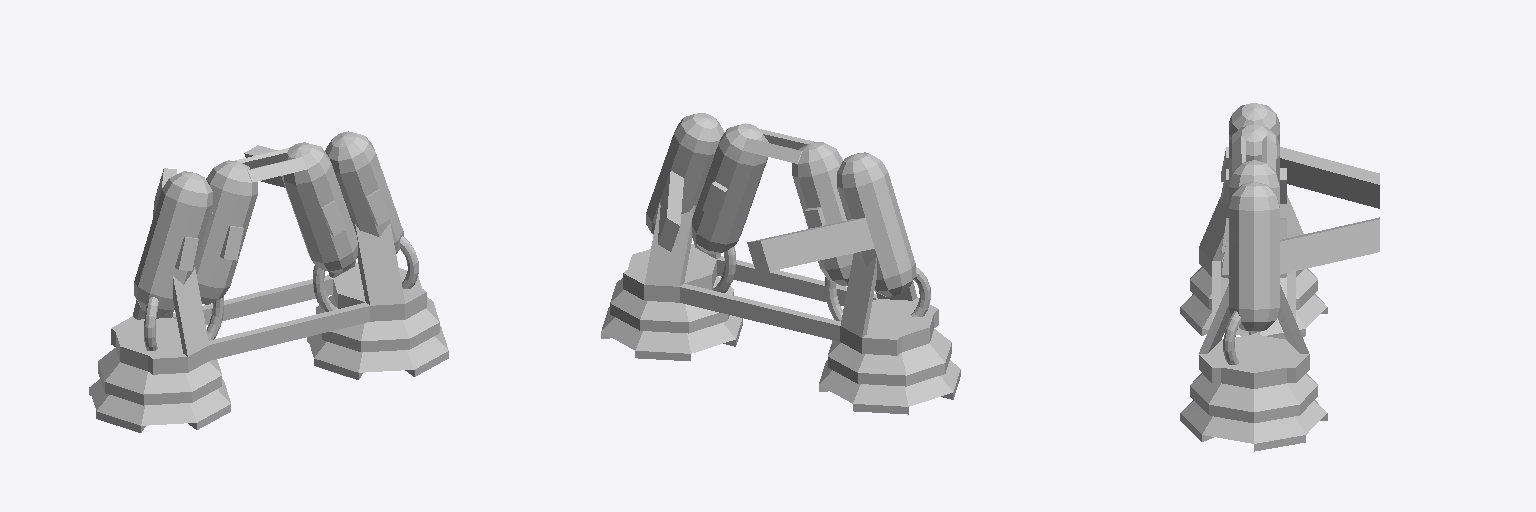
Rendered from jetpack.obj.
The picture shows the model from 3 angles: view 1: azimuth 30°, elevation 25°; view 2: azimuth 150°, elevation 25°; view 3: azimuth 270°, elevation 25°; orthographic projection.
Visible parts, largest first — view 1: frame, tank_left_1, tank_right_2, tank_left_2, tank_right_1, engine_skirt_right, engine_skirt_left; view 2: frame, tank_left_1, tank_right_2, tank_right_1, tank_left_2, engine_skirt_right, engine_skirt_left; view 3: frame, tank_right_1, tank_left_1, engine_skirt_left, tank_left_2, engine_skirt_right, tank_right_2.
Boxes of the visible parts, box(x1,y1,x2,y2) form: frame: box(89, 148, 448, 432); tank_left_1: box(134, 168, 212, 315); tank_right_2: box(281, 142, 357, 272); tank_left_2: box(195, 160, 257, 304); tank_right_1: box(244, 131, 403, 253); engine_skirt_right: box(98, 348, 221, 405); engine_skirt_left: box(316, 295, 439, 351); frame: box(601, 129, 960, 414); tank_left_1: box(747, 152, 915, 296); tank_right_2: box(692, 123, 768, 254); tank_right_1: box(646, 113, 724, 251); tank_left_2: box(792, 142, 853, 285); engine_skirt_right: box(828, 329, 951, 386); engine_skirt_left: box(610, 276, 733, 333); frame: box(1180, 136, 1327, 451); tank_right_1: box(1221, 182, 1379, 332); tank_left_1: box(1221, 103, 1379, 208); engine_skirt_left: box(1190, 373, 1317, 422); tank_left_2: box(1221, 124, 1286, 203); engine_skirt_right: box(1190, 267, 1317, 309); tank_right_2: box(1221, 160, 1286, 252).
Size of the model in its own units: 1.24 by 0.7656 by 0.6197.